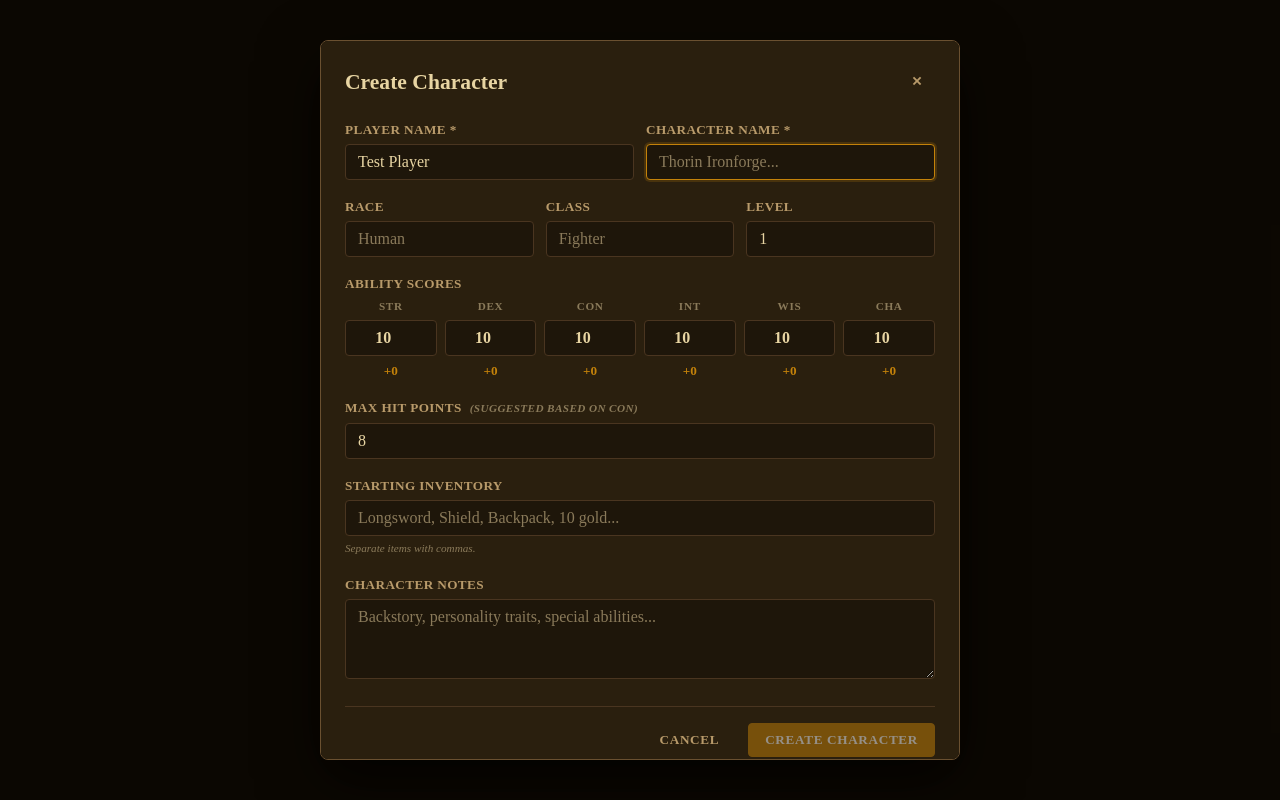
Test: CharacterForm › HP suggestion › updates suggested HP when CON score changes
Replace the text in the number field titled "Constitution" with "14" at (590, 338), box [544, 320, 636, 356]
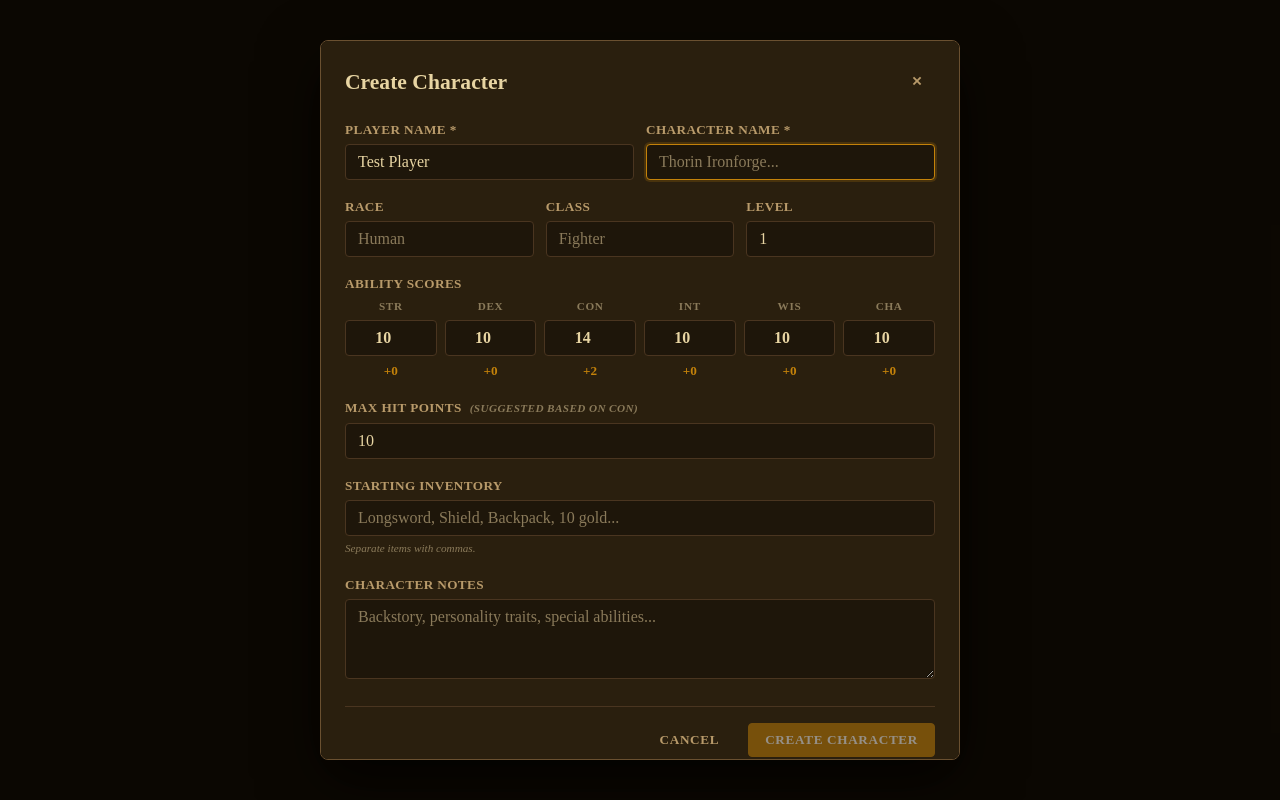
Check: the number field labelled "Max Hit Points(suggested based on CON)" holds "10", box [345, 422, 935, 458]
